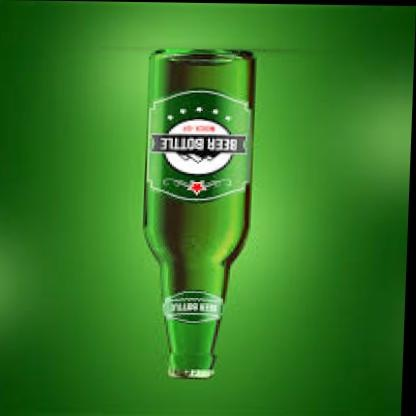trash: (144, 50, 254, 378)
